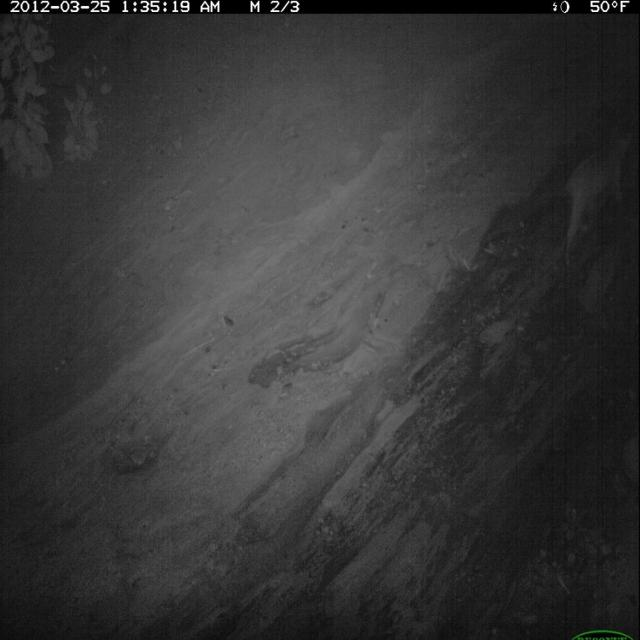bobcat: (558, 126, 636, 274)
